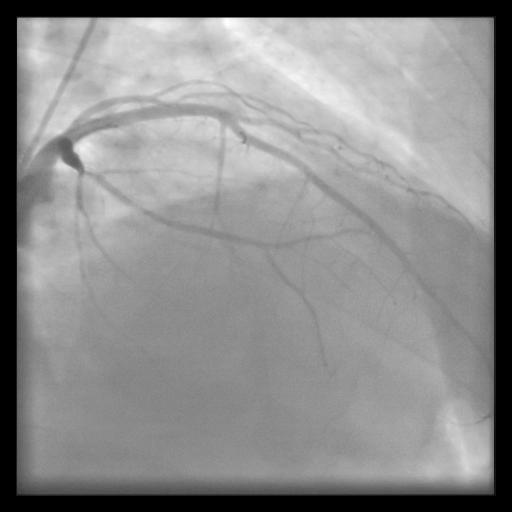Stenosis: (74, 162, 101, 189)
